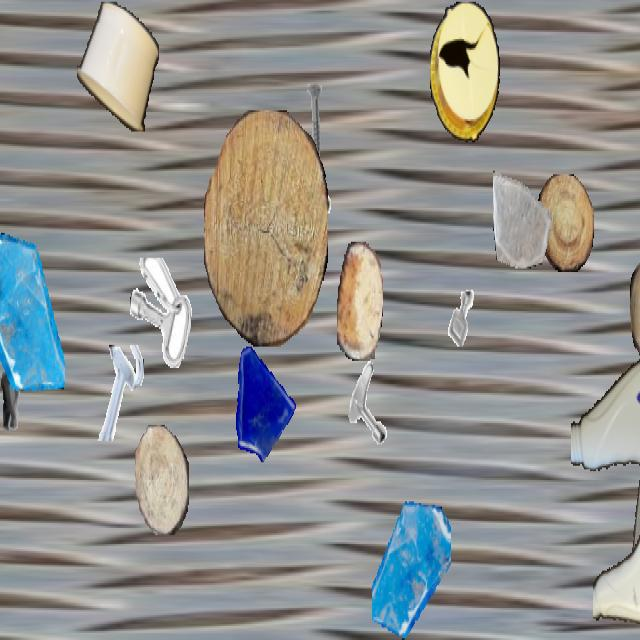glass: (0, 231, 65, 398), (372, 500, 450, 638), (226, 336, 296, 460), (493, 164, 551, 266)
metal: (279, 176, 341, 286), (130, 258, 192, 368), (92, 345, 146, 441), (342, 356, 396, 452), (291, 80, 339, 165), (440, 279, 484, 357), (0, 359, 36, 448)
plastic: (571, 313, 640, 498), (77, 2, 159, 130), (430, 2, 500, 140), (593, 457, 640, 638), (627, 386, 640, 602)
wood: (204, 110, 328, 345), (135, 425, 189, 535), (337, 242, 383, 359), (537, 174, 593, 270), (630, 249, 640, 363)
